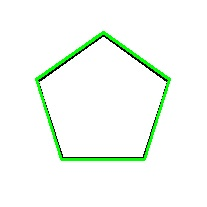line_segment: (35, 32, 171, 161)
